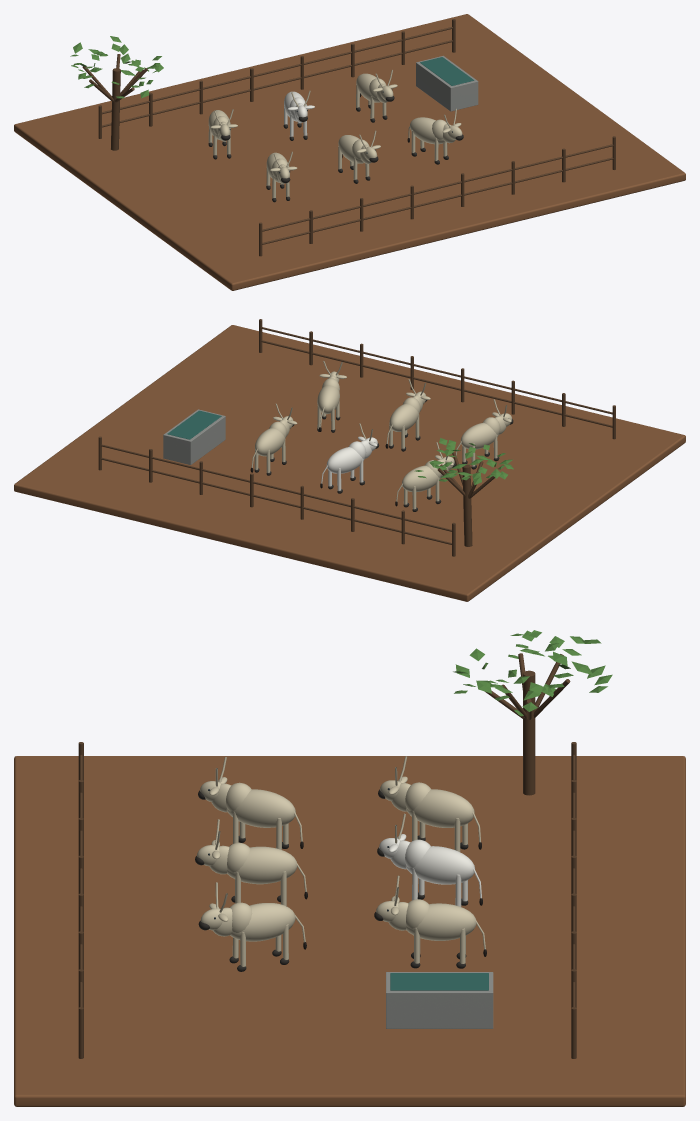
The model's file is cattle-ranch.glb.
3 views of the same model, one above another, from view 1: azimuth 30°, elevation 25°; view 2: azimuth 150°, elevation 25°; view 3: azimuth 270°, elevation 25° (orthographic). The views are drawn at different scales.
Parts seen in each view (by area): view 1: Earth plot, Water trough, Fence rail.003, Fence rail.002, Fence rail, Fence rail.001, Trough water, Trunk, Cattle torso.002; view 2: Earth plot, Water trough, Fence rail.003, Fence rail.002, Fence rail.001, Fence rail, Trough water, Cattle torso.004, Cattle torso.003, Cattle torso, Trunk, Cattle torso.005 (+2 smaller); view 3: Earth plot, Water trough, Cattle torso.004, Trough water, Cattle torso, Cattle torso.003, Cattle torso.005, Cattle torso.001, Cattle torso.002, Trunk, Fence rail.001, Fence rail.003.
Boxes of the visible parts, x1=… form: Earth plot: x1=14, y1=14, x2=685, y2=290; Water trough: x1=416, y1=55, x2=478, y2=111; Fence rail.003: x1=262, y1=144, x2=613, y2=231; Fence rail.002: x1=262, y1=157, x2=613, y2=244; Fence rail: x1=102, y1=40, x2=452, y2=127; Fence rail.001: x1=102, y1=27, x2=452, y2=114; Trough water: x1=420, y1=57, x2=474, y2=85; Trunk: x1=111, y1=68, x2=120, y2=150; Cattle torso.002: x1=409, y1=117, x2=445, y2=144; Earth plot: x1=14, y1=325, x2=685, y2=601; Water trough: x1=163, y1=409, x2=225, y2=464; Fence rail.003: x1=261, y1=327, x2=612, y2=414; Fence rail.002: x1=261, y1=340, x2=612, y2=427; Fence rail.001: x1=101, y1=444, x2=452, y2=531; Fence rail: x1=101, y1=457, x2=452, y2=544; Trough water: x1=167, y1=410, x2=221, y2=439; Cattle torso.004: x1=326, y1=447, x2=364, y2=473; Cattle torso.003: x1=402, y1=465, x2=440, y2=491; Cattle torso: x1=460, y1=422, x2=498, y2=449; Trunk: x1=462, y1=464, x2=472, y2=546; Cattle torso.005: x1=255, y1=428, x2=285, y2=456; Earth plot: x1=14, y1=756, x2=685, y2=1106; Water trough: x1=386, y1=972, x2=493, y2=1028; Cattle torso.004: x1=405, y1=846, x2=474, y2=884; Trough water: x1=390, y1=973, x2=488, y2=990; Cattle torso: x1=226, y1=789, x2=295, y2=827; Cattle torso.003: x1=406, y1=789, x2=474, y2=827; Cattle torso.005: x1=406, y1=903, x2=476, y2=940; Cattle torso.001: x1=227, y1=846, x2=296, y2=884; Cattle torso.002: x1=230, y1=903, x2=295, y2=941; Trunk: x1=523, y1=670, x2=535, y2=795; Fence rail.001: x1=572, y1=755, x2=575, y2=1006; Fence rail.003: x1=79, y1=755, x2=82, y2=1006.
Size of the model in its own units: 18 by 3.79 by 15.
Materials: 10 (1 with a texture image).
